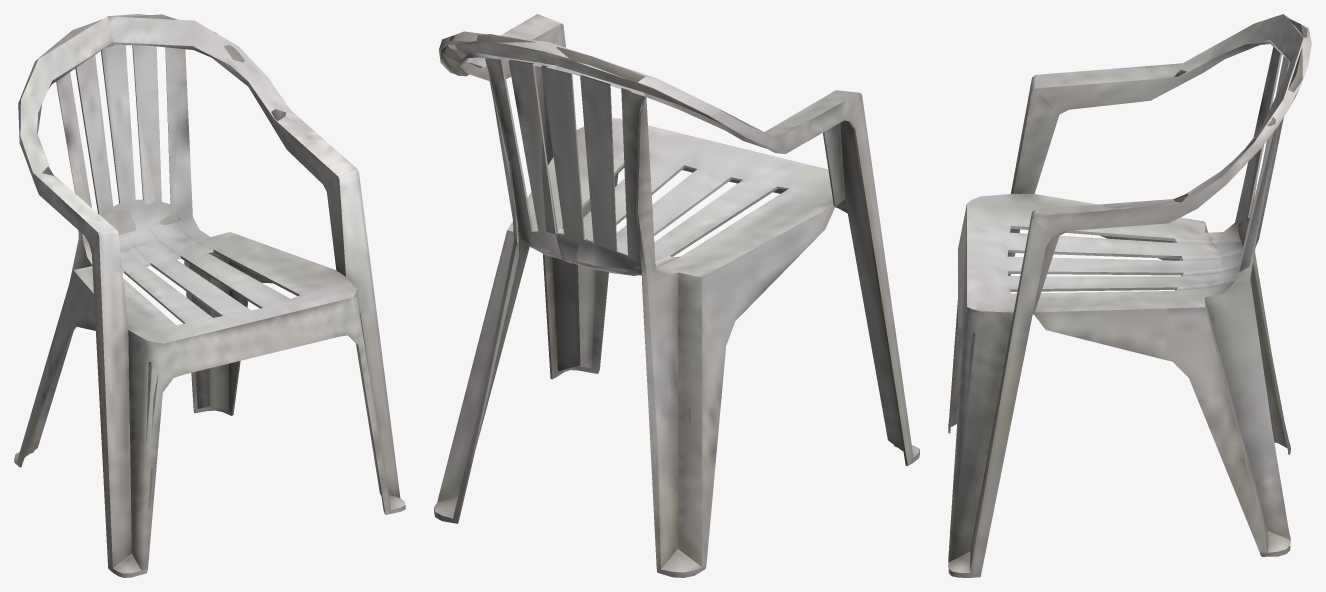
The picture shows the model from 3 angles, left to right: view 1: azimuth 30°, elevation 25°; view 2: azimuth 150°, elevation 25°; view 3: azimuth 270°, elevation 25°; orthographic projection. The views are drawn at different scales.
Visible parts, largest first — view 1: plastic_monobloc_chair_01; view 2: plastic_monobloc_chair_01; view 3: plastic_monobloc_chair_01.
Boxes of the visible parts, left/top/right/bottom form: plastic_monobloc_chair_01: left=14, top=14, right=405, bottom=577; plastic_monobloc_chair_01: left=434, top=14, right=919, bottom=577; plastic_monobloc_chair_01: left=948, top=14, right=1311, bottom=577.
Bounding box in the file's own units: 0.6419 × 0.8798 × 0.6276.
1 material, 1 textured.
